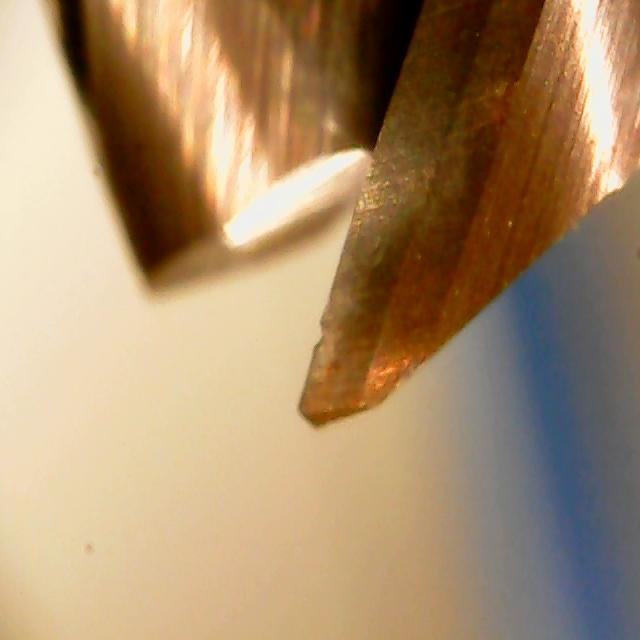Tool-wear-class-1: (289, 236, 410, 434)
